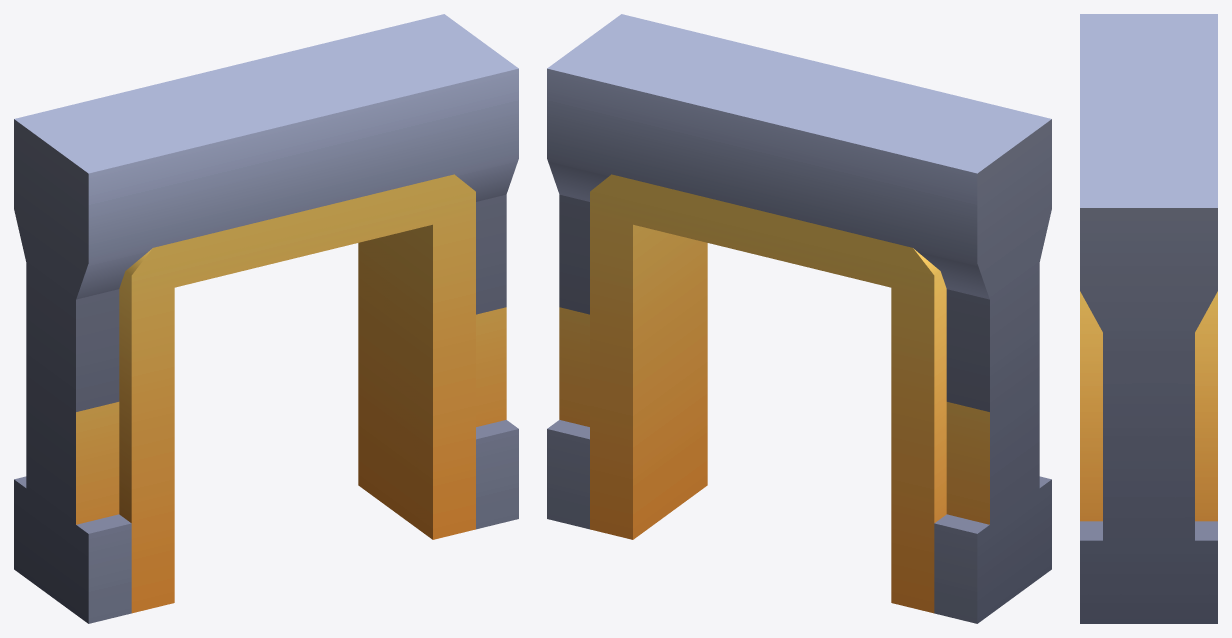
File: wall-door-wide-banner.glb
3 renders of one model, left to right at view 1: azimuth 30°, elevation 25°; view 2: azimuth 150°, elevation 25°; view 3: azimuth 270°, elevation 25°, orthographic. The views are drawn at different scales.
Visible parts, largest first — view 1: wall-door-wide-banner; view 2: wall-door-wide-banner; view 3: wall-door-wide-banner.
Part boxes in pixels (x1,y1,x2,y2): wall-door-wide-banner: (14,14,518,623); wall-door-wide-banner: (547,14,1051,623); wall-door-wide-banner: (1080,14,1217,623).
Size of the model in its own units: 1 by 1 by 0.3.
Materials: 1 (1 with a texture image).
